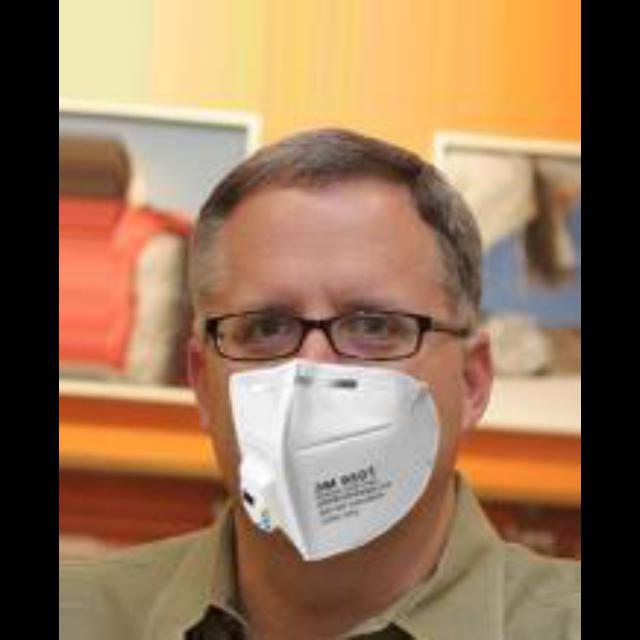suspicion: (160, 80, 478, 592)
